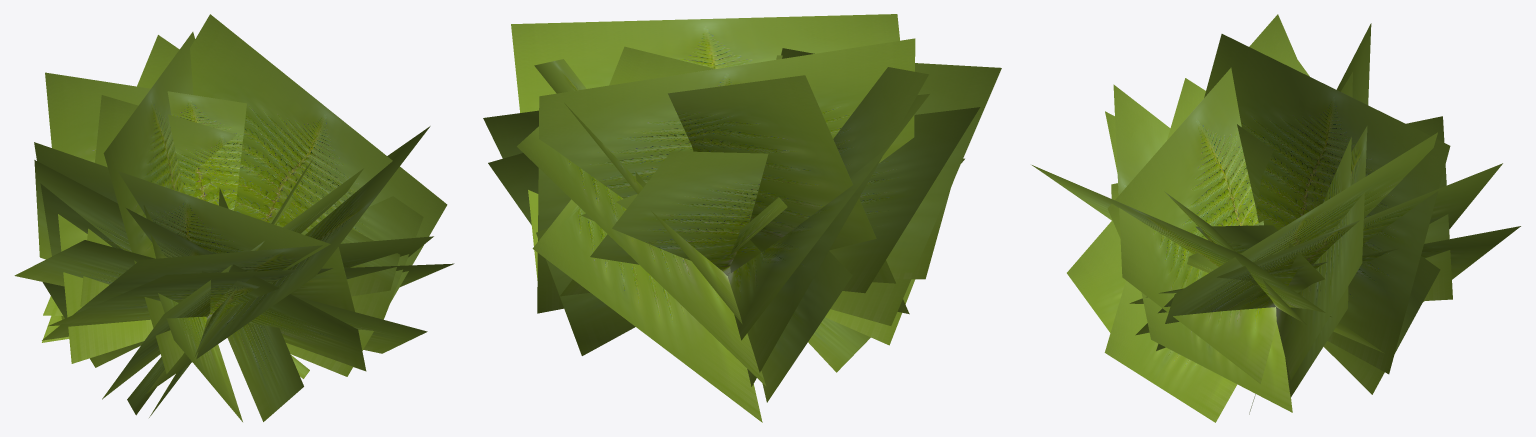
The model's file is Bush1.fbx.
3 renders of one model, left to right at view 1: azimuth 30°, elevation 25°; view 2: azimuth 150°, elevation 25°; view 3: azimuth 270°, elevation 25°, orthographic. The views are drawn at different scales.
Visible parts, largest first — view 1: Tree_1; view 2: Tree_1; view 3: Tree_1.
Part boxes in pixels (x1=…): Tree_1: x1=14, y1=14, x2=454, y2=421; Tree_1: x1=483, y1=14, x2=1001, y2=422; Tree_1: x1=1032, y1=14, x2=1520, y2=422.
Size of what is drawn, in the model's own units: 20.93 by 16.27 by 24.12.
1 material, 1 textured.
